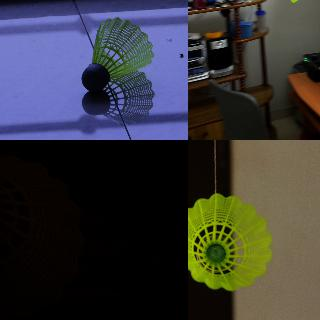shuttlecock: (0, 156, 85, 319), (188, 192, 271, 292), (81, 17, 153, 91), (289, 0, 305, 3)
